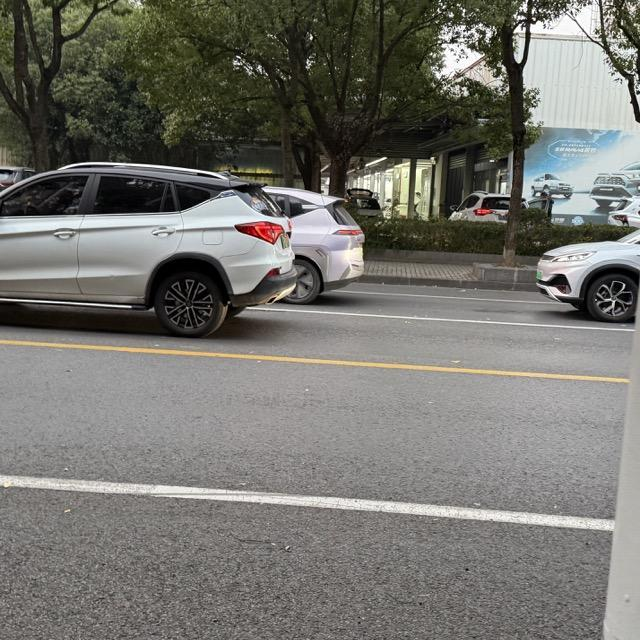curb: (358, 275, 539, 291), (365, 249, 501, 266), (518, 256, 537, 266)
